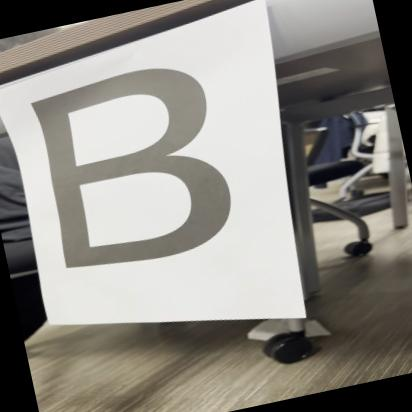seat: (19, 53, 253, 289)
